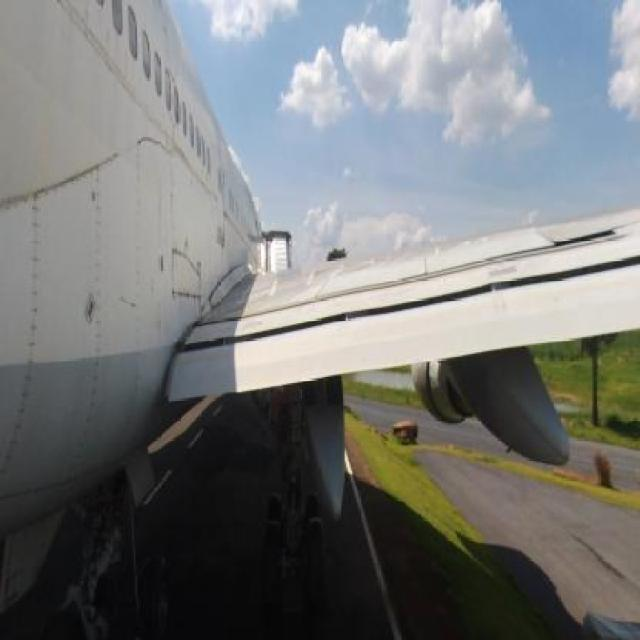Missing-Rivet: (26, 145, 123, 212), (23, 192, 43, 414), (93, 167, 105, 431), (172, 284, 210, 314)
Rust: (157, 124, 200, 176)
